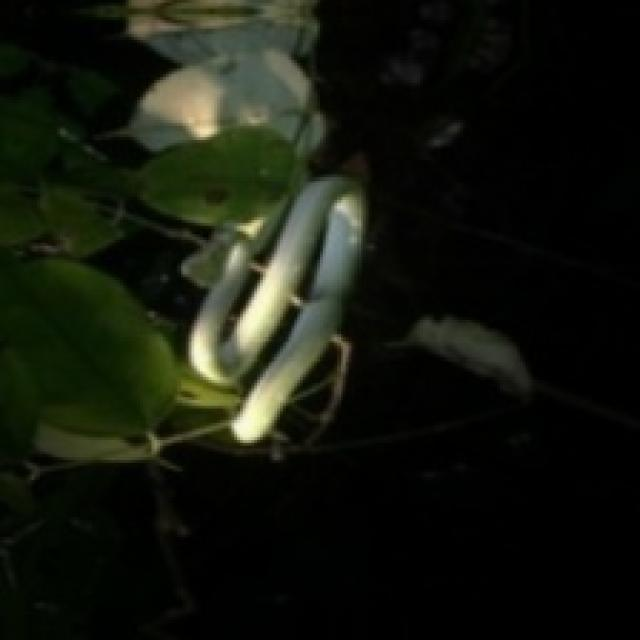north ph temple pitviper: (189, 177, 363, 440)
